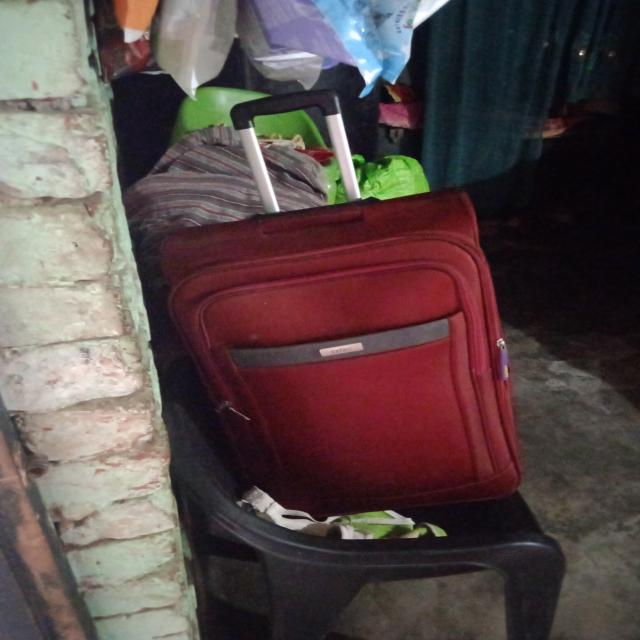suitcaserotation: (141, 86, 526, 512)
